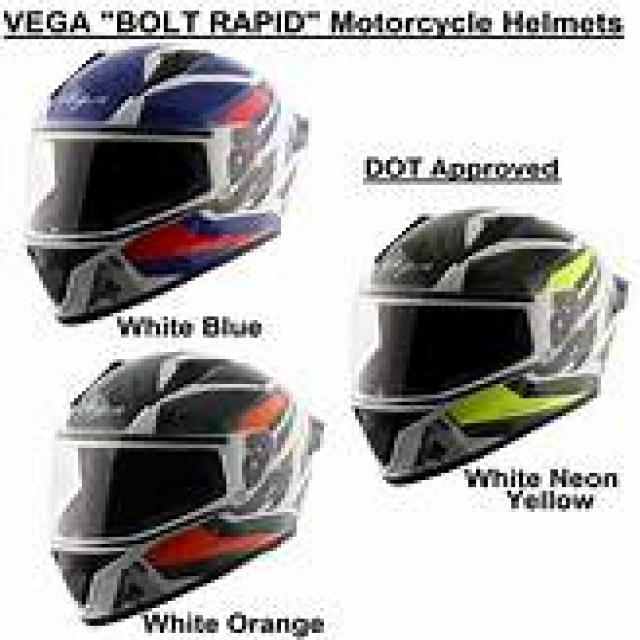helmet: (27, 50, 304, 320), (351, 210, 624, 480), (51, 352, 308, 622)
